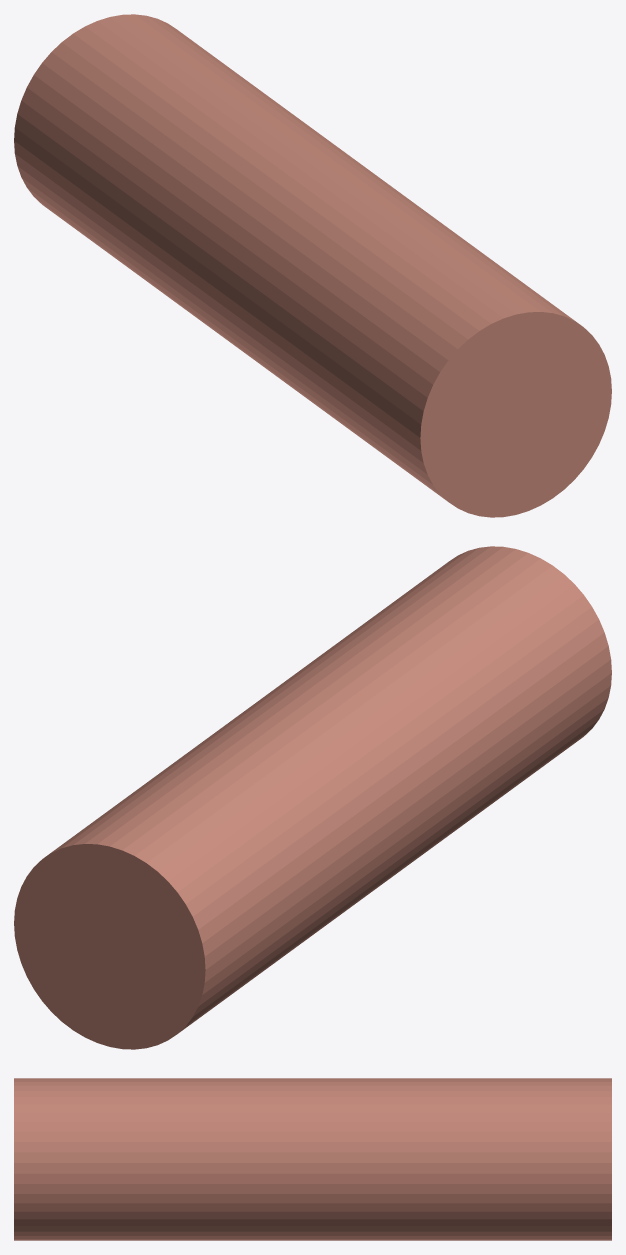
The picture shows the model from 3 angles, top to bottom: view 1: azimuth 30°, elevation 25°; view 2: azimuth 150°, elevation 25°; view 3: azimuth 270°, elevation 25°; orthographic projection. The views are drawn at different scales.
Parts seen in each view (by area): view 1: geometry_0; view 2: geometry_0; view 3: geometry_0.
Boxes of the visible parts, x1,y1,x2,y2 form: geometry_0: (14, 14, 611, 517); geometry_0: (14, 546, 611, 1049); geometry_0: (14, 1078, 611, 1240).
Bounding box in the file's own units: 38.1 × 38.1 × 140.
